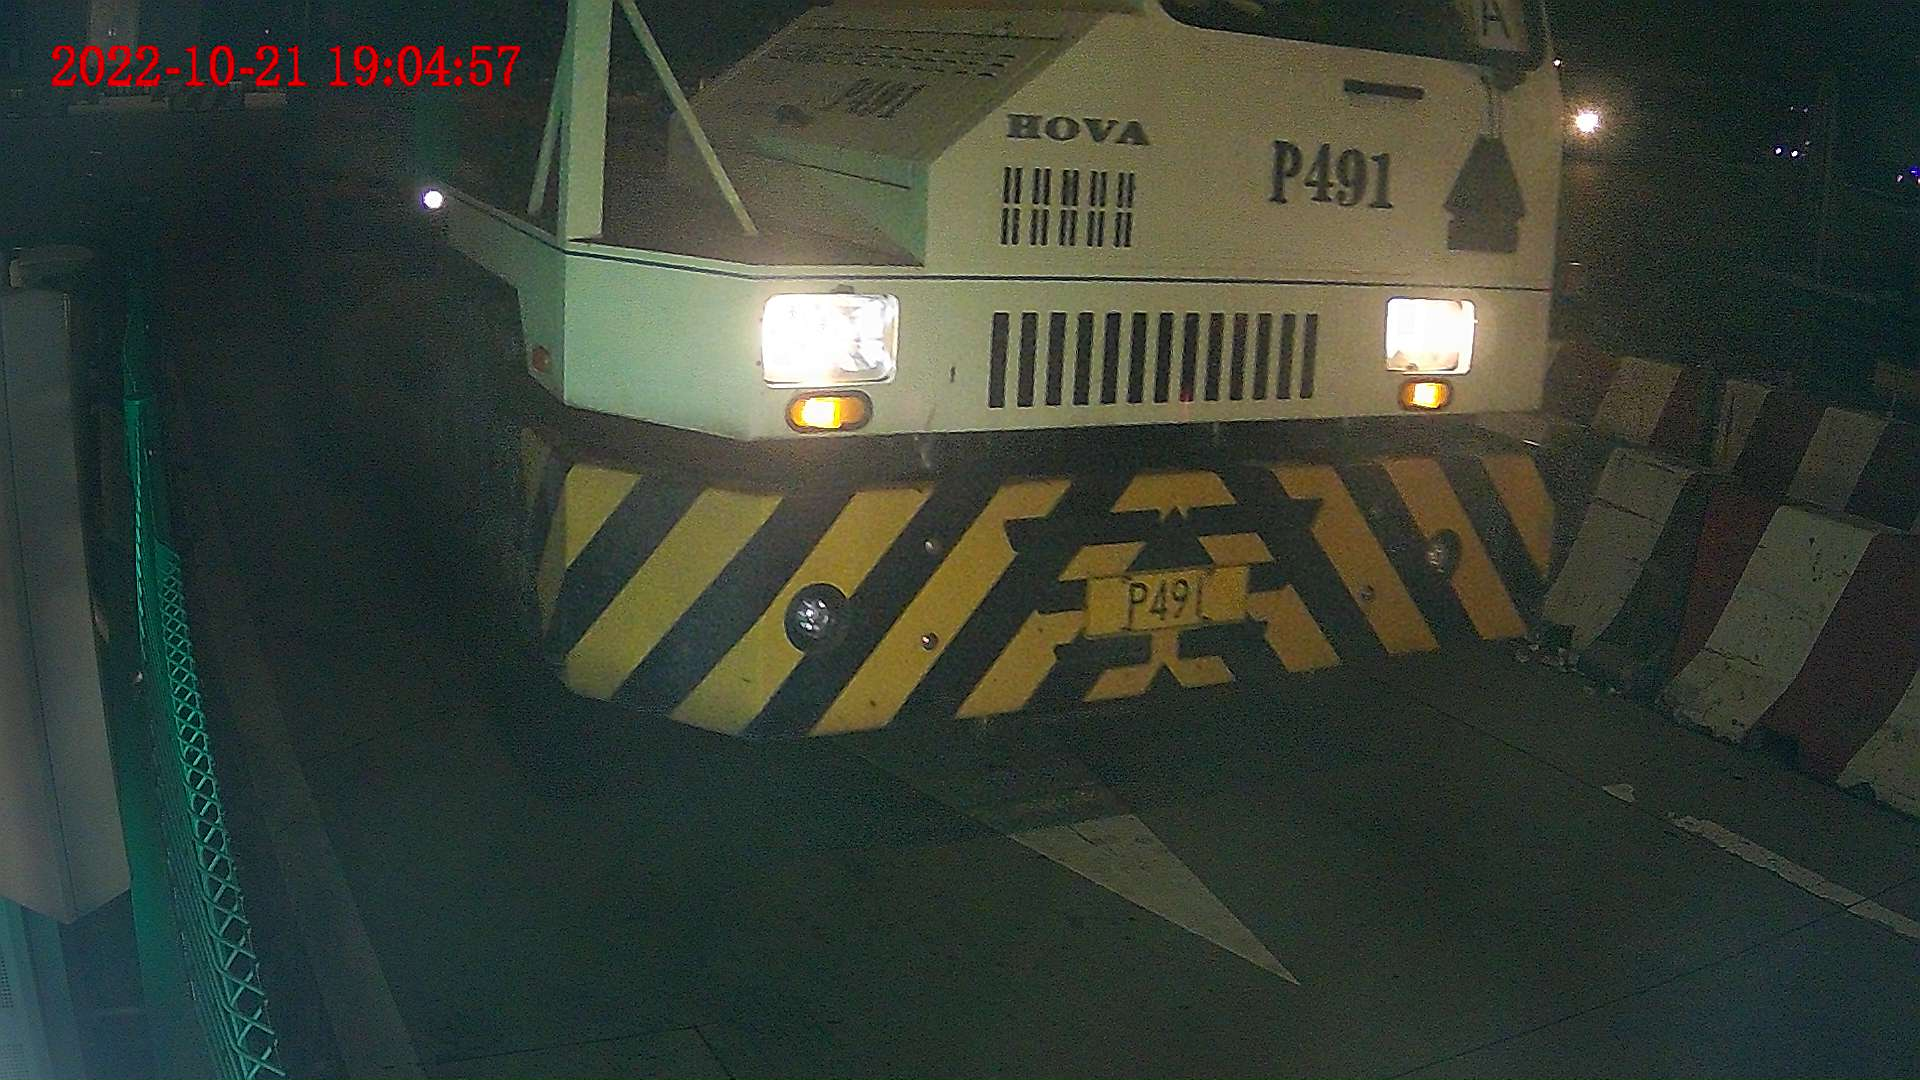head: (487, 1, 1560, 744)
plate: (1095, 570, 1252, 626)
